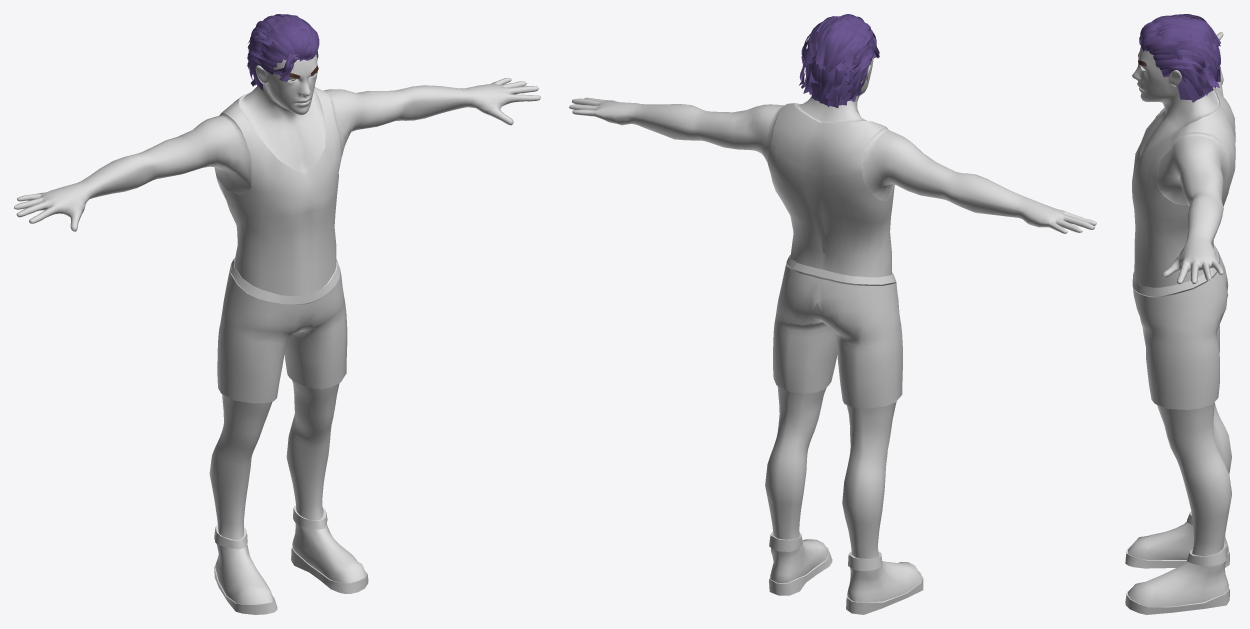
The model's file is gold.glb.
3 views of the same model, side by side, from view 1: azimuth 30°, elevation 25°; view 2: azimuth 150°, elevation 25°; view 3: azimuth 270°, elevation 25° (orthographic).
Parts seen in each view (by area): view 1: AxonRetopoLP, P3; view 2: AxonRetopoLP, P3; view 3: AxonRetopoLP, P3.
Boxes of the visible parts, x1,y1,x2,y2 form: AxonRetopoLP: (14,54,540,614); P3: (247,14,319,90); AxonRetopoLP: (569,57,1096,614); P3: (799,14,879,107); AxonRetopoLP: (1125,32,1235,614); P3: (1139,14,1220,102).
Size of the model in its own units: 1.8 by 1.86 by 0.3288.
